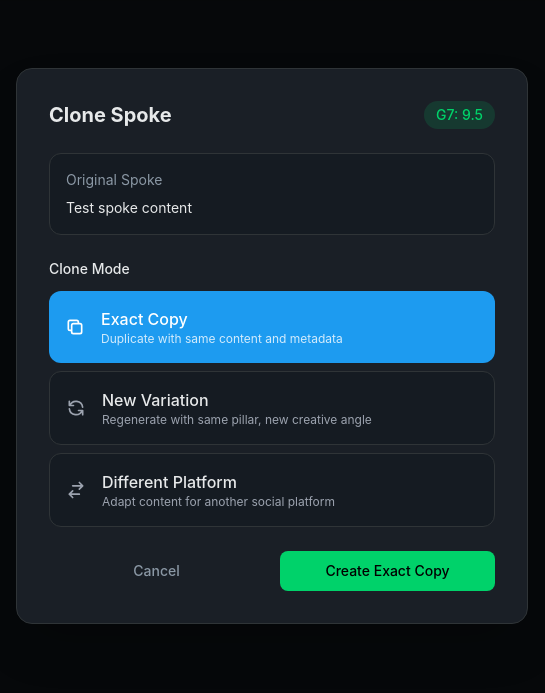
CloneSpokeModal › switches to "New Variation" mode and shows count selector
# Click Variation mode
Click the text "New Variation": (155,400) top-left (102, 390), bottom-right (208, 410)
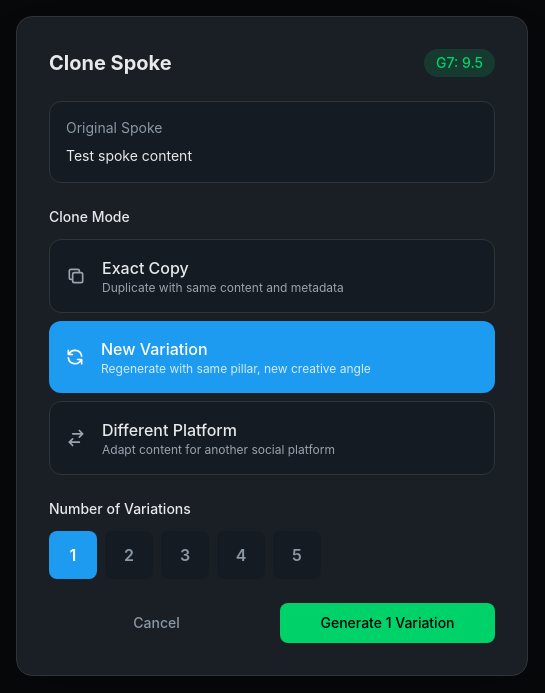
Expected: the text "Number of Variations" is shown, top-left (49, 500), bottom-right (191, 517)
Expected: the button "Generate 1 Variation" is shown, top-left (280, 603), bottom-right (495, 643)
# Select 3 variations
Click the button "3": (185,555) top-left (161, 531), bottom-right (209, 579)
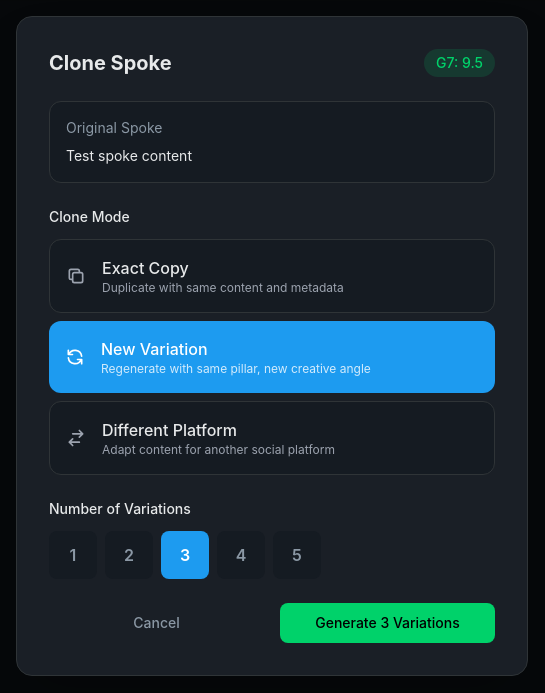
Expected: the button "Generate 3 Variations" is shown, top-left (280, 603), bottom-right (495, 643)
